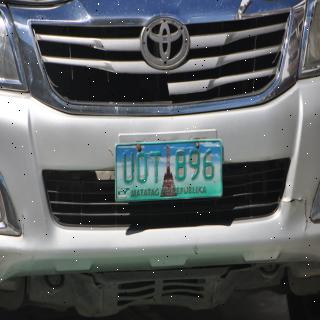license: (116, 140, 224, 202)
